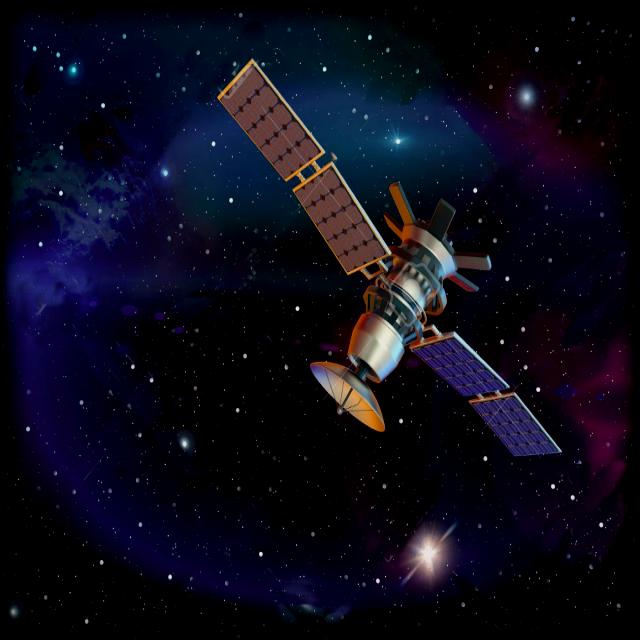satellite: (210, 46, 574, 582)
